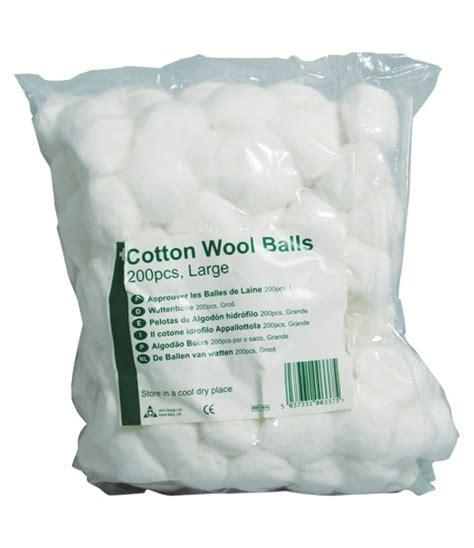cotton: (27, 94, 449, 490)
